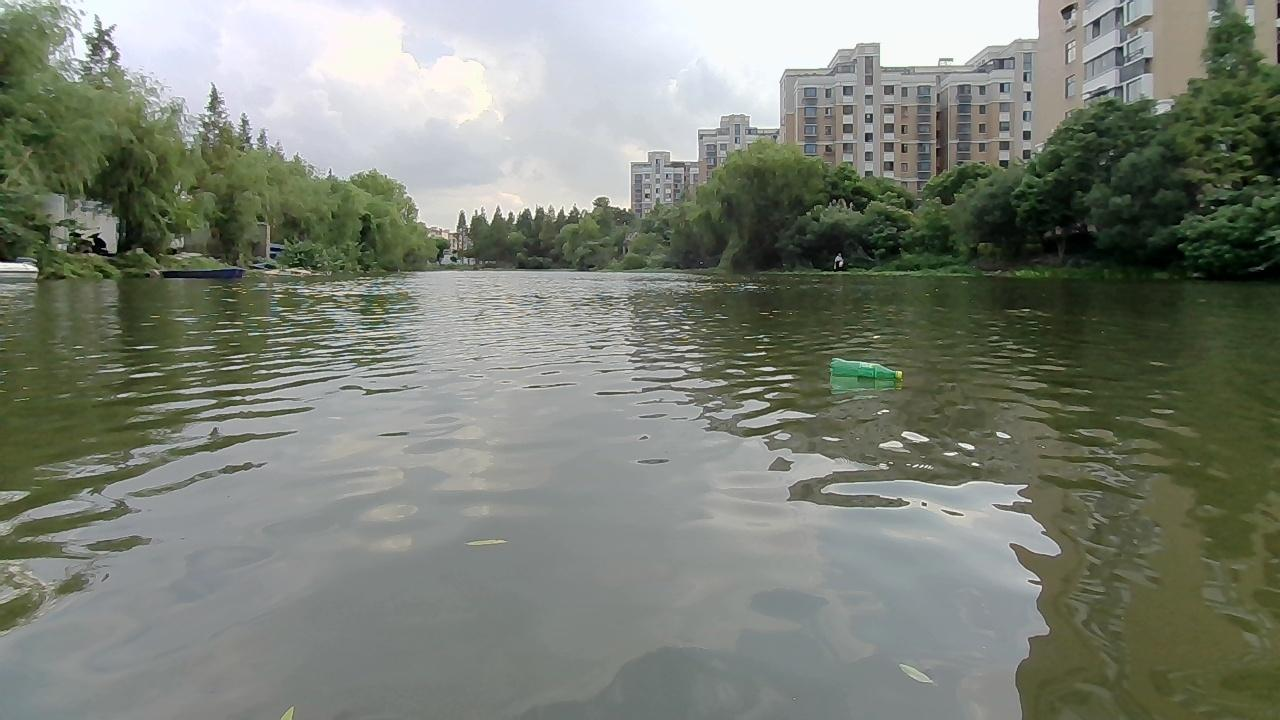bottle: (829, 354, 904, 387)
